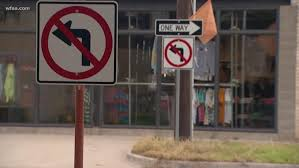noLeftTurn: (35, 1, 118, 86), (161, 36, 195, 70)
oneWay: (154, 17, 205, 38)
